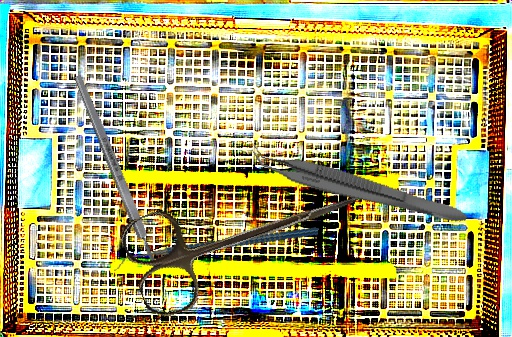Chopper: (114, 191, 319, 308)
Iris Scissors: (116, 144, 376, 323)
Scalpel Handle: (72, 73, 162, 273)
Tissue Forceps: (245, 143, 472, 227)
